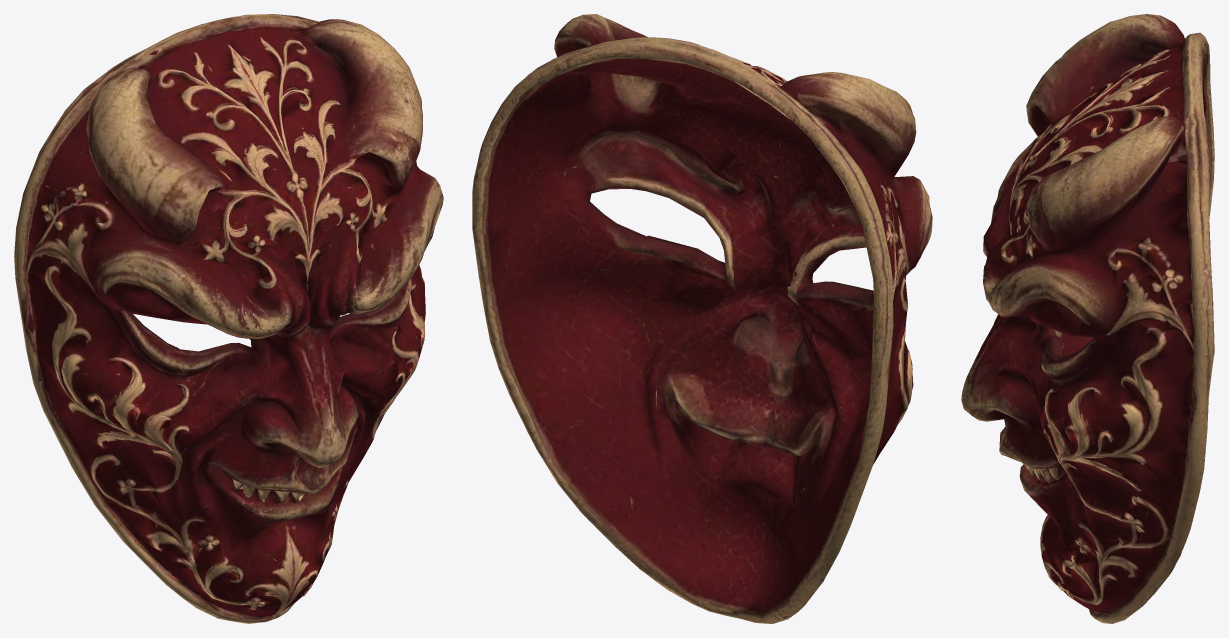
3 renders of one model, left to right at view 1: azimuth 30°, elevation 25°; view 2: azimuth 150°, elevation 25°; view 3: azimuth 270°, elevation 25°, orthographic. The views are drawn at different scales.
Bounding box in the file's own units: 1.37 × 1.9 × 0.7786.
Materials: 1 (1 with a texture image).
